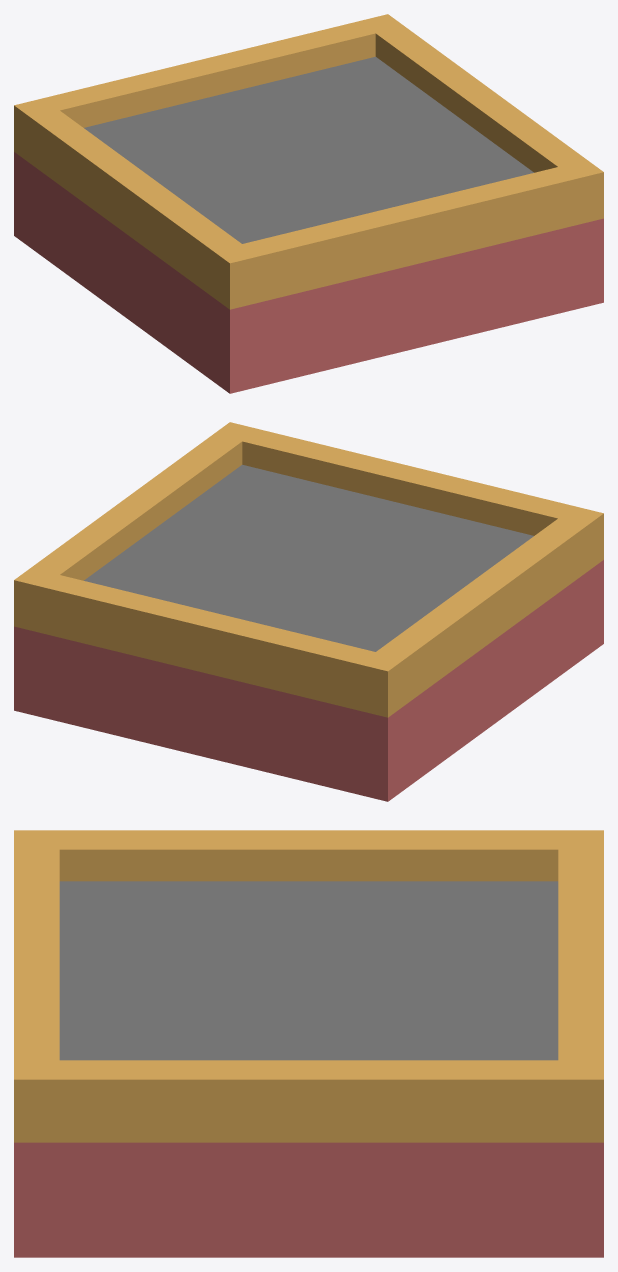
File: SkyScraper_Top_01.fbx
3 renders of one model, top to bottom at view 1: azimuth 30°, elevation 25°; view 2: azimuth 150°, elevation 25°; view 3: azimuth 270°, elevation 25°, orthographic. The views are drawn at different scales.
Visible parts, largest first — view 1: SkyScraper_Top_02; view 2: SkyScraper_Top_02; view 3: SkyScraper_Top_02.
Boxes of the visible parts, x1=… form: SkyScraper_Top_02: x1=14, y1=14, x2=603, y2=393; SkyScraper_Top_02: x1=14, y1=422, x2=603, y2=801; SkyScraper_Top_02: x1=14, y1=830, x2=603, y2=1257.
Bounding box in the file's own units: 96 × 32 × 96.
